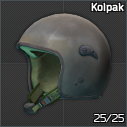Kolpak-1S riot helmet: (0, 0, 127, 127)
